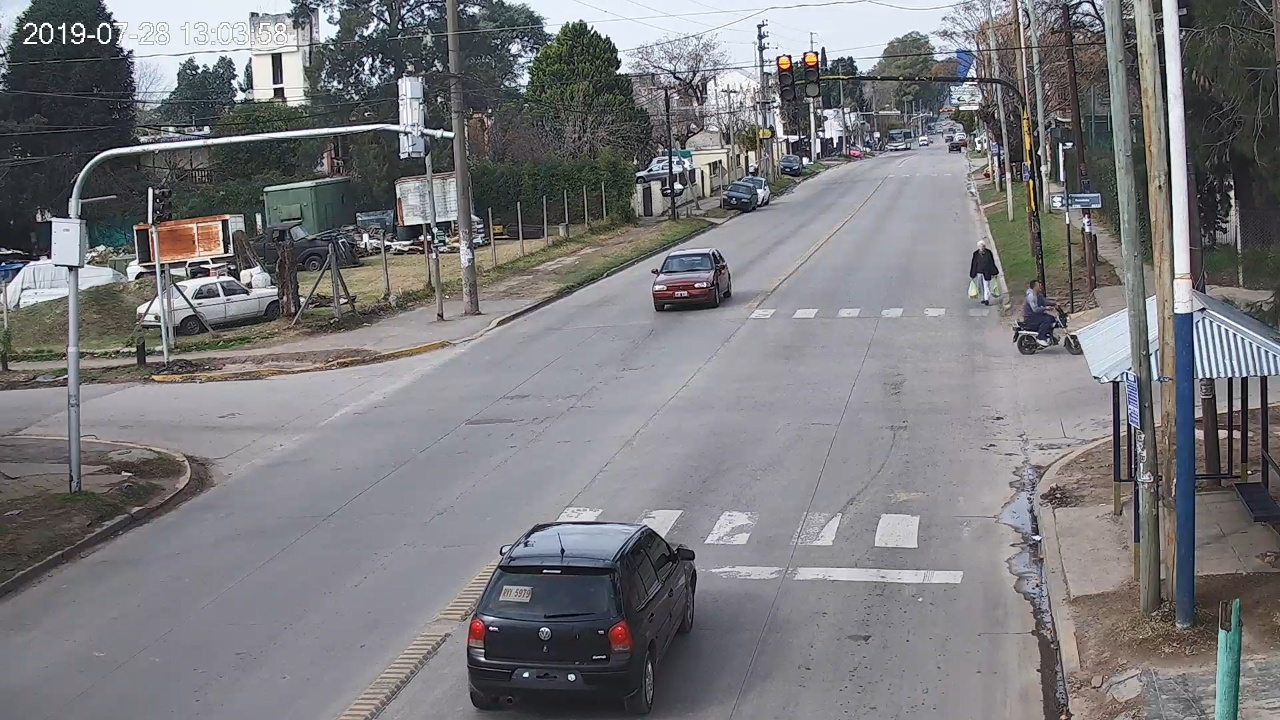car: (467, 521, 698, 715)
front car: (652, 248, 733, 310)
traffic light: (777, 54, 797, 101), (803, 49, 822, 98)
